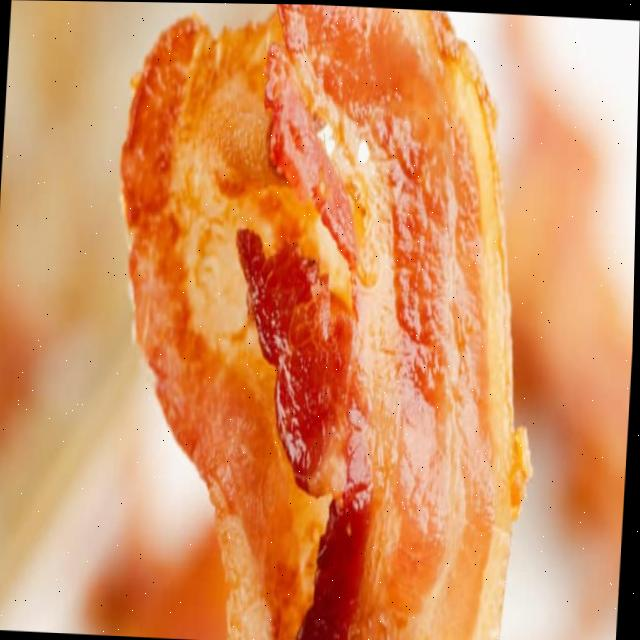Bacon: (122, 3, 531, 640)
